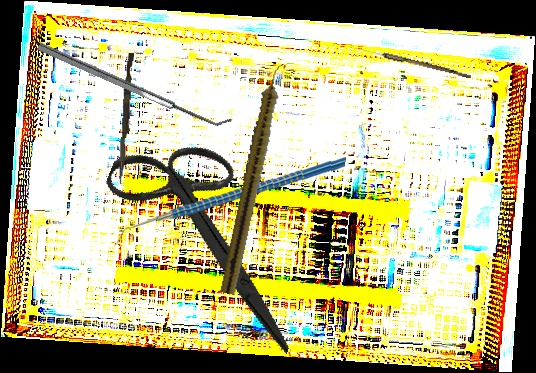Chopper: (114, 149, 346, 256)
Handpiece: (219, 60, 289, 297)
Iris Scissors: (71, 118, 347, 355)
Pusher: (118, 52, 134, 185)
Spatula Surgical: (37, 35, 233, 134)
Surgical Spoon: (352, 45, 473, 79)
